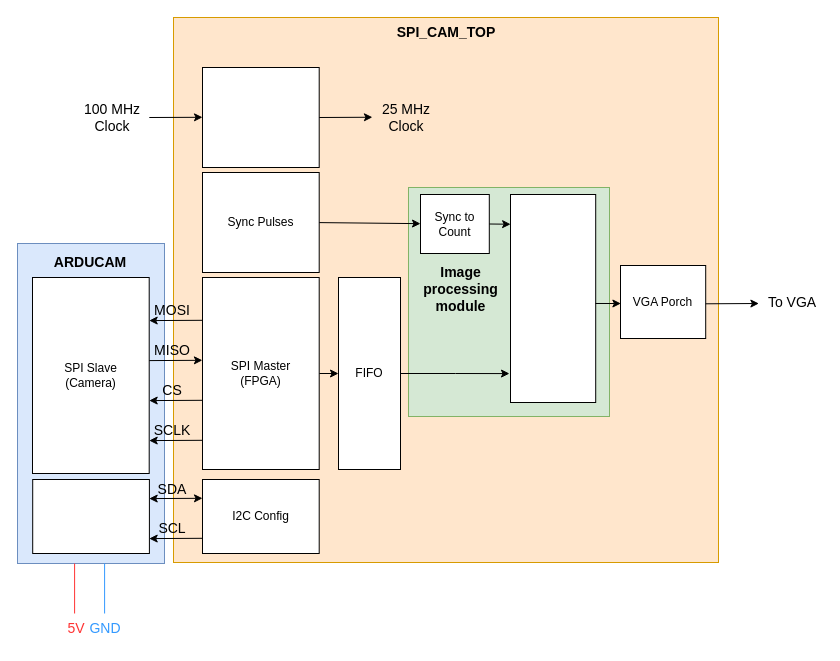
The diagram is 840 pixels wide and 661 high, and some of its shapes have lost their labels. The centre of each missing label's shape, as x and y in pixels:
I2C Interface: (90,516)
Image processing: (553,298)
PLL: (260,117)
